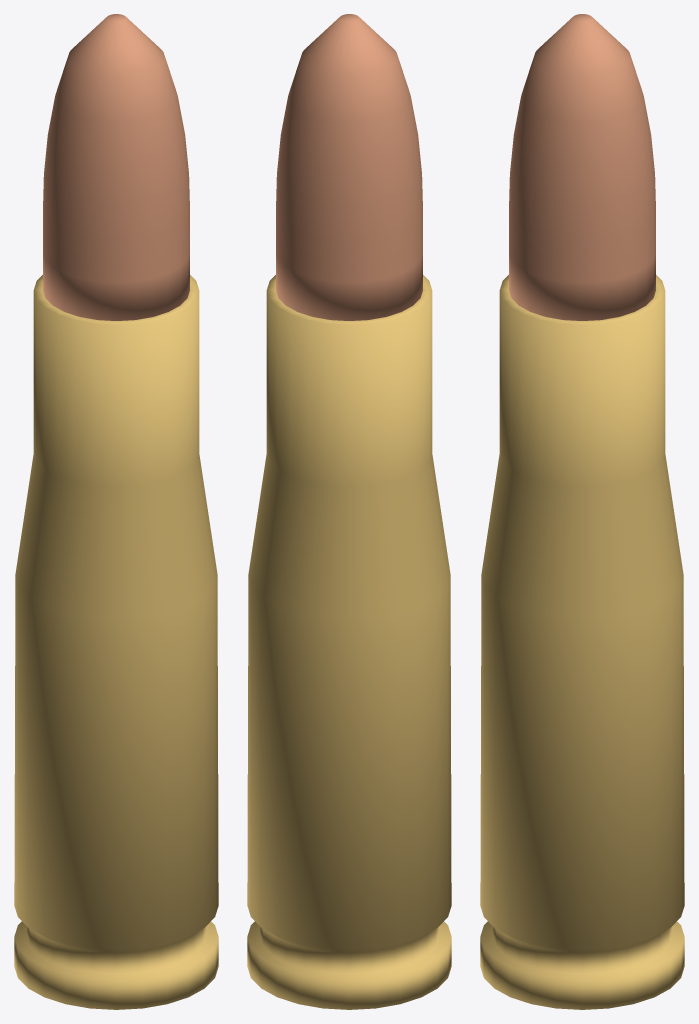
Rendered from 57x28_std.glb.
3 renders of one model, left to right at view 1: azimuth 30°, elevation 25°; view 2: azimuth 150°, elevation 25°; view 3: azimuth 270°, elevation 25°, orthographic.
Visible parts, largest first — view 1: vaina, bala; view 2: vaina, bala; view 3: vaina, bala.
Part boxes in pixels (x1=…): vaina: x1=14, y1=275, x2=218, y2=1009; bala: x1=43, y1=14, x2=189, y2=320; vaina: x1=247, y1=275, x2=451, y2=1009; bala: x1=276, y1=14, x2=422, y2=320; vaina: x1=480, y1=275, x2=684, y2=1009; bala: x1=509, y1=14, x2=655, y2=320.
Size of the model in its own units: 0.0079 by 0.0405 by 0.0079.
